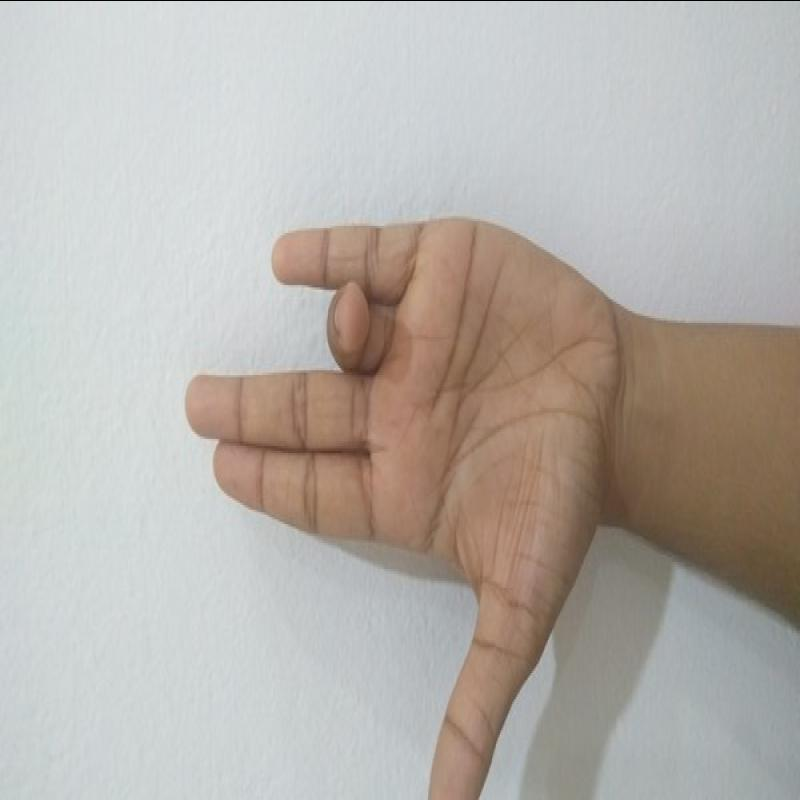Pathaaka: (161, 176, 644, 800)
